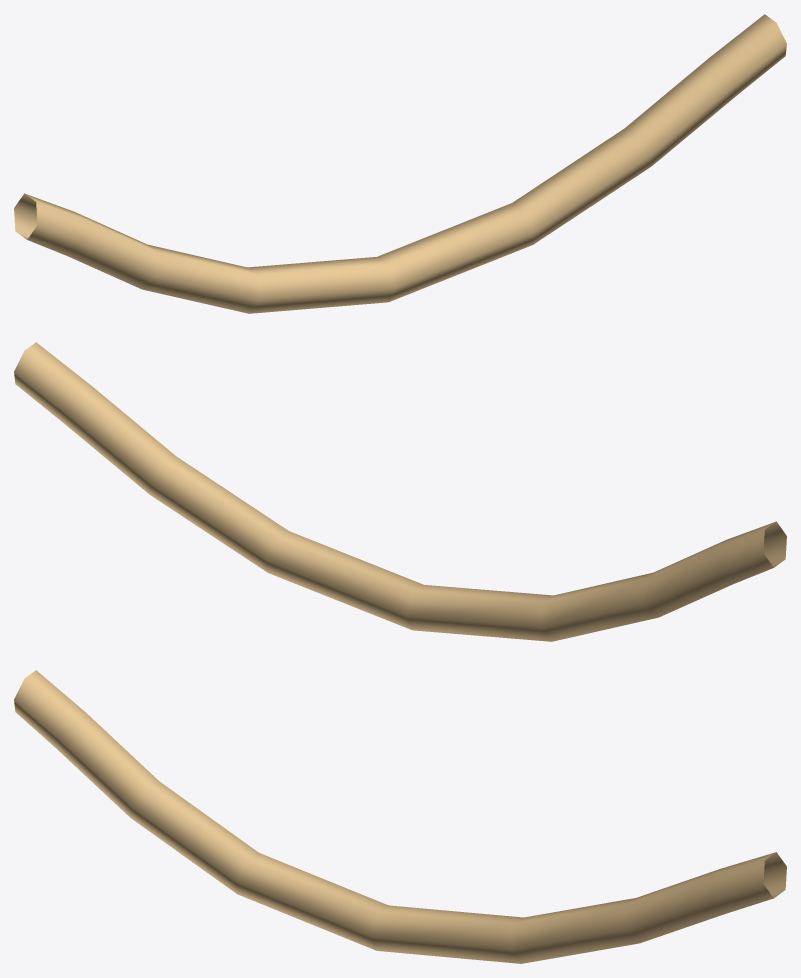
File: SM_Dock_Rope.fbx
3 views of the same model, one above another, from view 1: azimuth 30°, elevation 25°; view 2: azimuth 150°, elevation 25°; view 3: azimuth 330°, elevation 25° (orthographic).
Parts seen in each view (by area): view 1: SM_Dock_Rope; view 2: SM_Dock_Rope; view 3: SM_Dock_Rope.
Boxes of the visible parts, bbox=[...] form: SM_Dock_Rope: bbox=[14, 14, 786, 313]; SM_Dock_Rope: bbox=[14, 342, 786, 641]; SM_Dock_Rope: bbox=[14, 670, 786, 963].
Bounding box in the file's own units: 2.24 × 0.5247 × 0.12.
